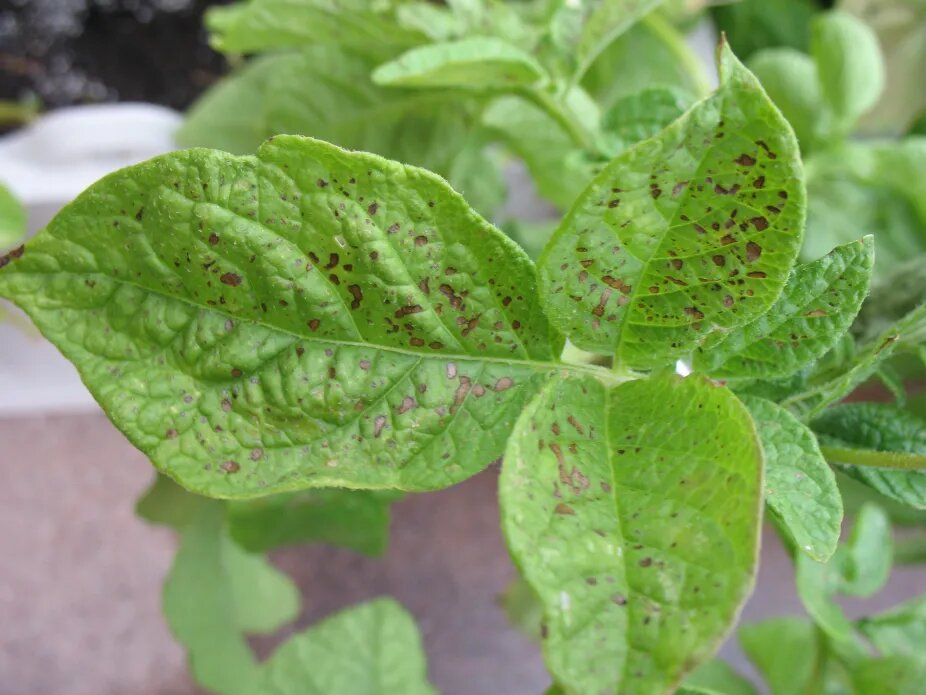potato_leaf: (1, 132, 574, 504), (536, 27, 810, 361), (496, 368, 767, 695)
